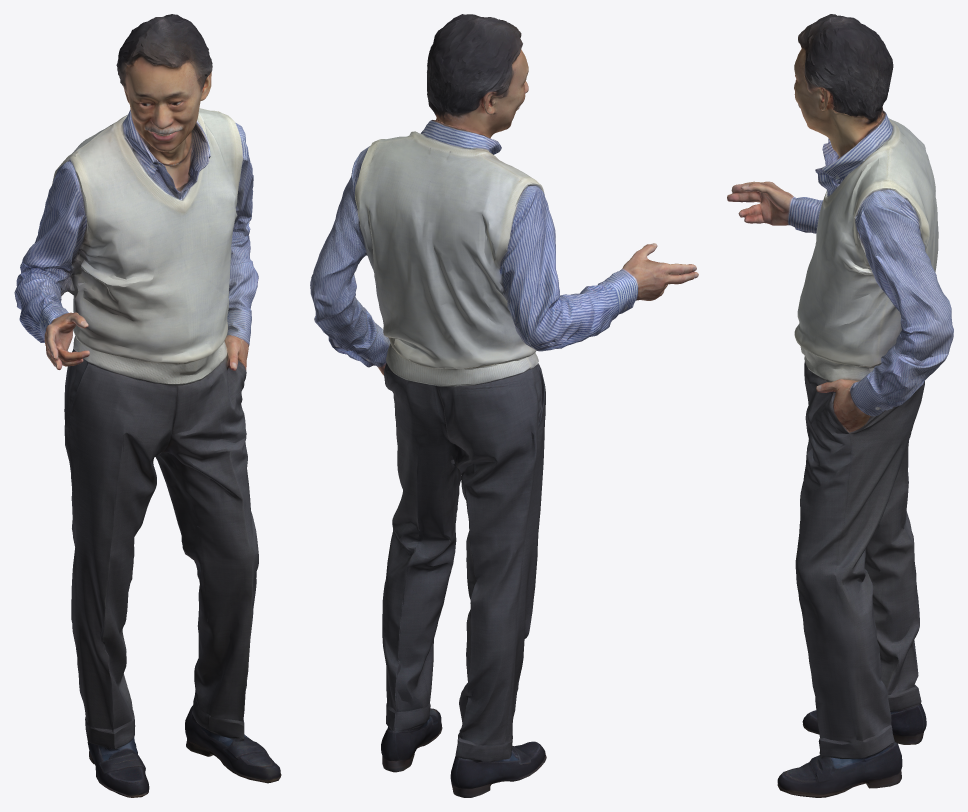
Rendered from 049_Ken.fbx.
The picture shows the model from 3 angles, left to right: view 1: azimuth 30°, elevation 25°; view 2: azimuth 150°, elevation 25°; view 3: azimuth 270°, elevation 25°; orthographic projection. The views are drawn at different scales.
Visible parts, largest first — view 1: 049_Ken_01; view 2: 049_Ken_01; view 3: 049_Ken_01.
Boxes of the visible parts, <box> form: 049_Ken_01: <box>14,14,281,797</box>; 049_Ken_01: <box>310,14,698,797</box>; 049_Ken_01: <box>727,14,953,797</box>.
Bounding box in the file's own units: 70.13 × 175 × 49.14.
Materials: 1 (1 with a texture image).
